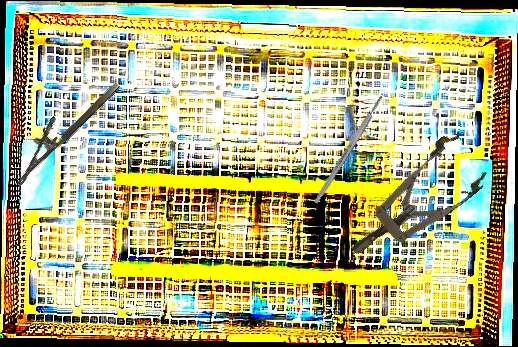Needle Holder: (1, 68, 122, 187)
Scalpel Handle: (312, 94, 385, 205)
Speculum: (332, 127, 496, 276)
